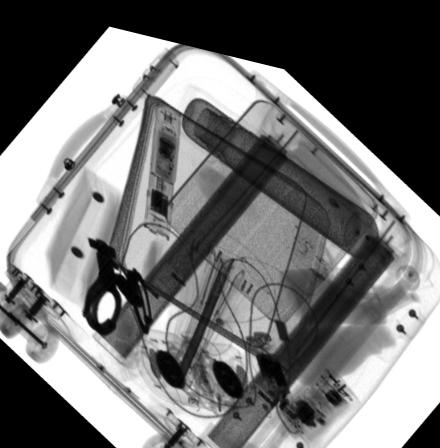Baton: (140, 96, 177, 232)
HandCuffs: (81, 230, 152, 330)
